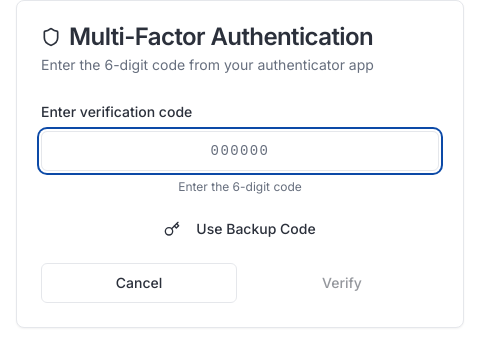
Test: MfaVerification Component › should switch to backup code input when backup code option is clicked
Click the button "Use Backup Code": (240, 229) x1=152 y1=211 x2=328 y2=247
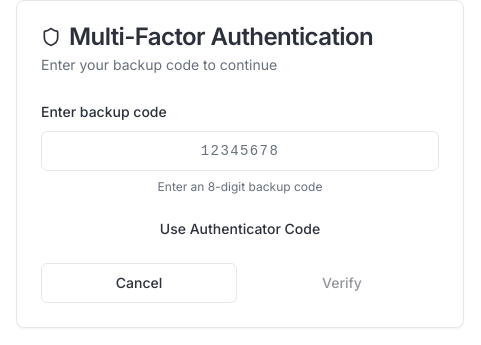
Expected: the text "Enter backup code" is shown, x1=41 y1=103 x2=167 y2=120
